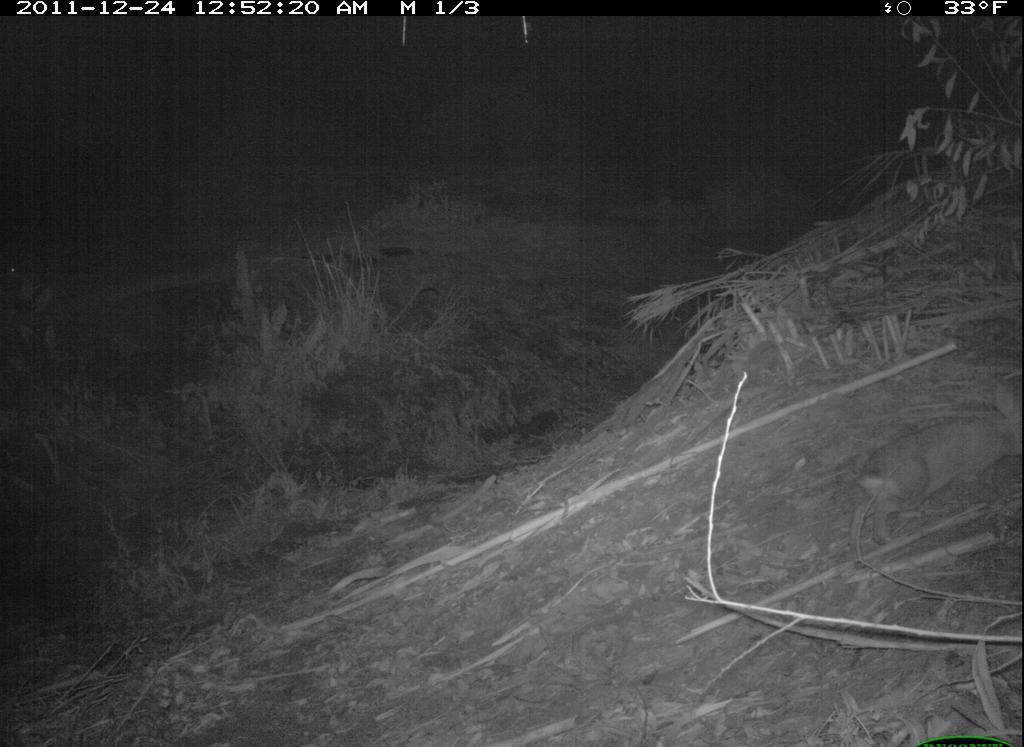rabbit: (852, 381, 1023, 550)
